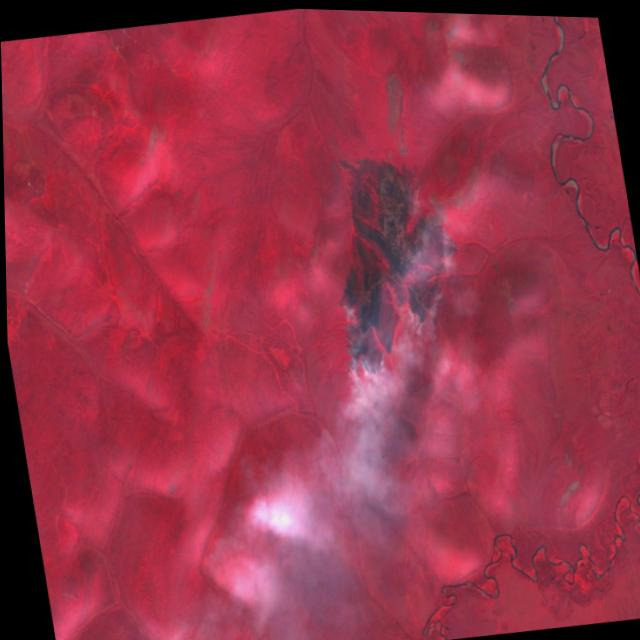fire: (309, 144, 478, 395)
